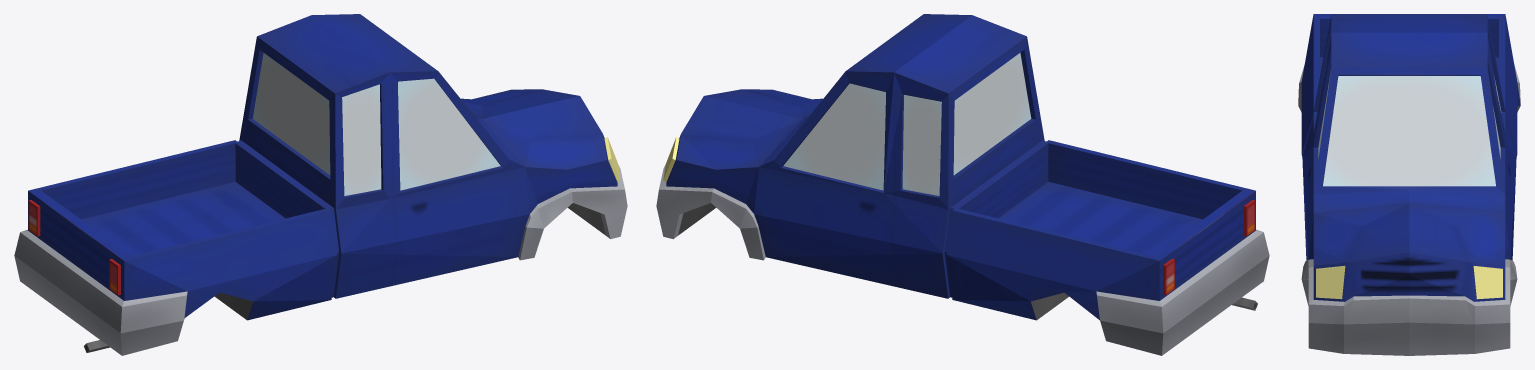
File: co_Pickup03.fbx
3 views of the same model, side by side, from view 1: azimuth 30°, elevation 25°; view 2: azimuth 150°, elevation 25°; view 3: azimuth 270°, elevation 25° (orthographic).
Parts seen in each view (by area): view 1: Pickup03; view 2: Pickup03; view 3: Pickup03.
Part boxes in pixels (x1=…): Pickup03: x1=14, y1=14, x2=627, y2=355; Pickup03: x1=656, y1=14, x2=1269, y2=355; Pickup03: x1=1298, y1=14, x2=1520, y2=355.
Size of the model in its own units: 732 by 283 by 264.
